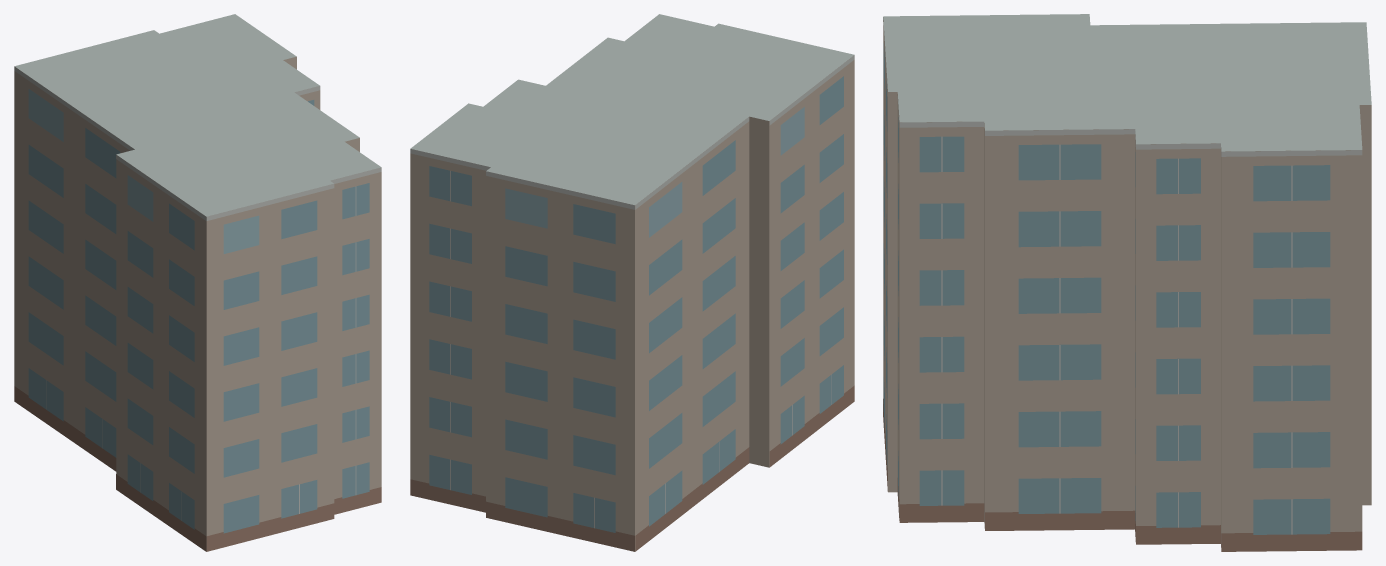
File: survey-upis-32666942.glb
3 views of the same model, side by side, from view 1: azimuth 30°, elevation 25°; view 2: azimuth 150°, elevation 25°; view 3: azimuth 270°, elevation 25° (orthographic). The views are drawn at different scales.
Parts seen in each view (by area): view 1: survey-upis-32666942.tmp; view 2: survey-upis-32666942.tmp; view 3: survey-upis-32666942.tmp.
Part boxes in pixels (x1,y1,x2,y2): survey-upis-32666942.tmp: (14,14,381,551); survey-upis-32666942.tmp: (410,14,854,551); survey-upis-32666942.tmp: (883,14,1371,551).
Bounding box in the file's own units: 13.41 × 18.2 × 20.13.
